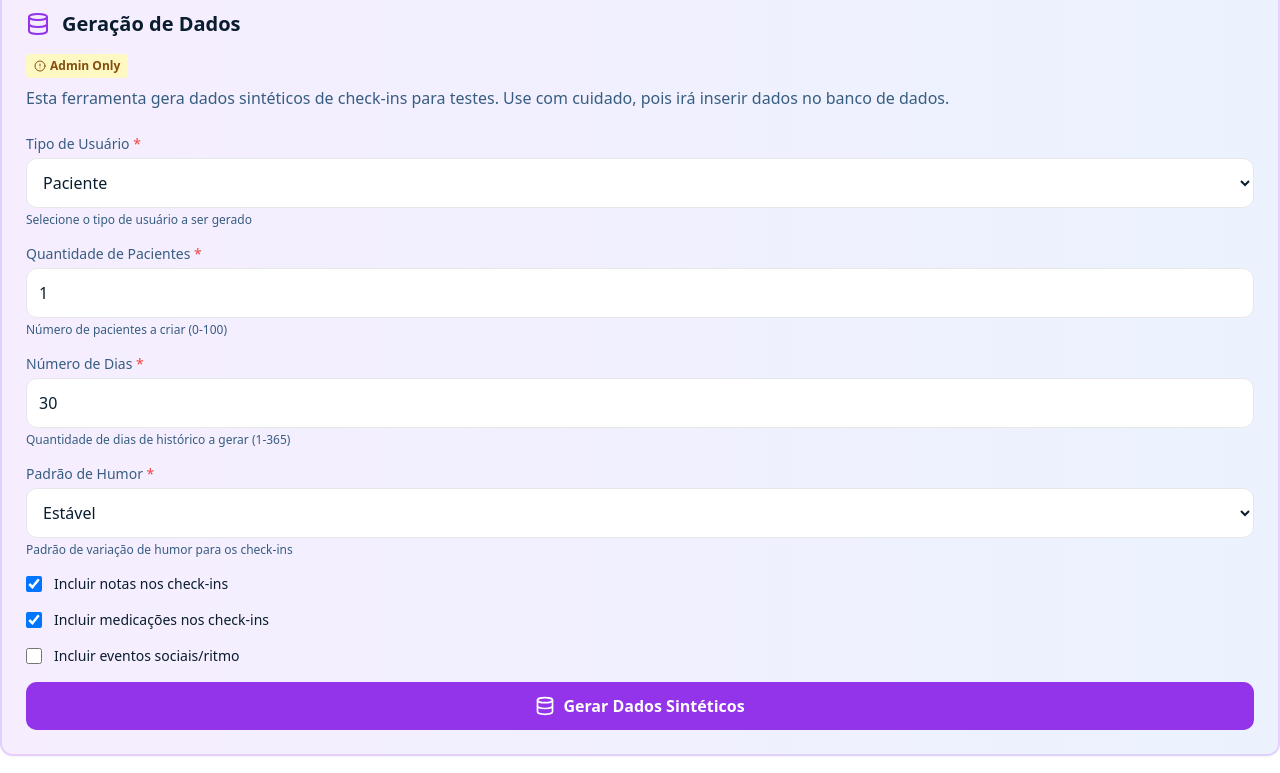
Scenario: DataGenerator › should allow user to retry after 500 error
Expected: the dropdown labelled "Tipo de Usuário *" is shown, top-left (26, 158), bottom-right (1254, 208)
Click the button "Gerar Dados Sintéticos": (640, 706) top-left (26, 682), bottom-right (1254, 730)
(page scrolled)
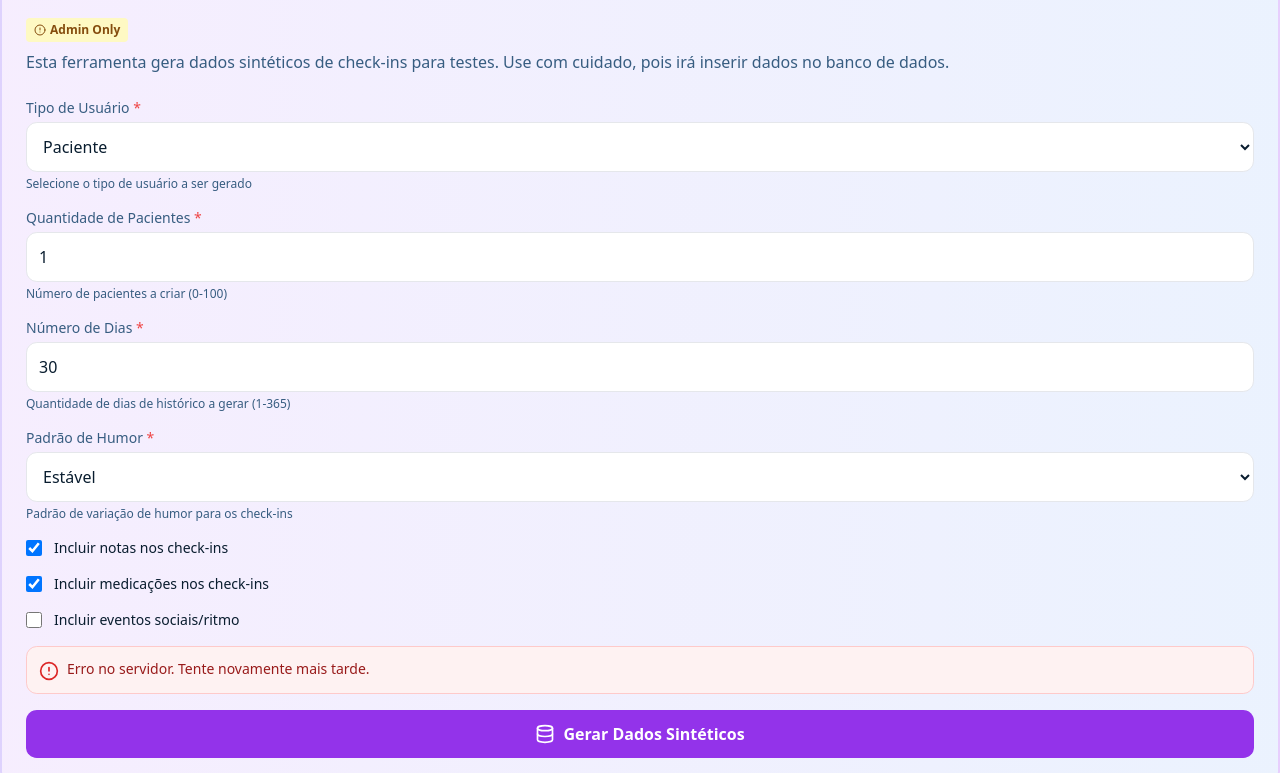
Expected: the text "Erro no servidor. Tente novamente mais tarde." is shown, top-left (67, 659), bottom-right (370, 679)
Retry by clicking submit again
Click the button "Gerar Dados Sintéticos": (640, 734) top-left (26, 710), bottom-right (1254, 758)
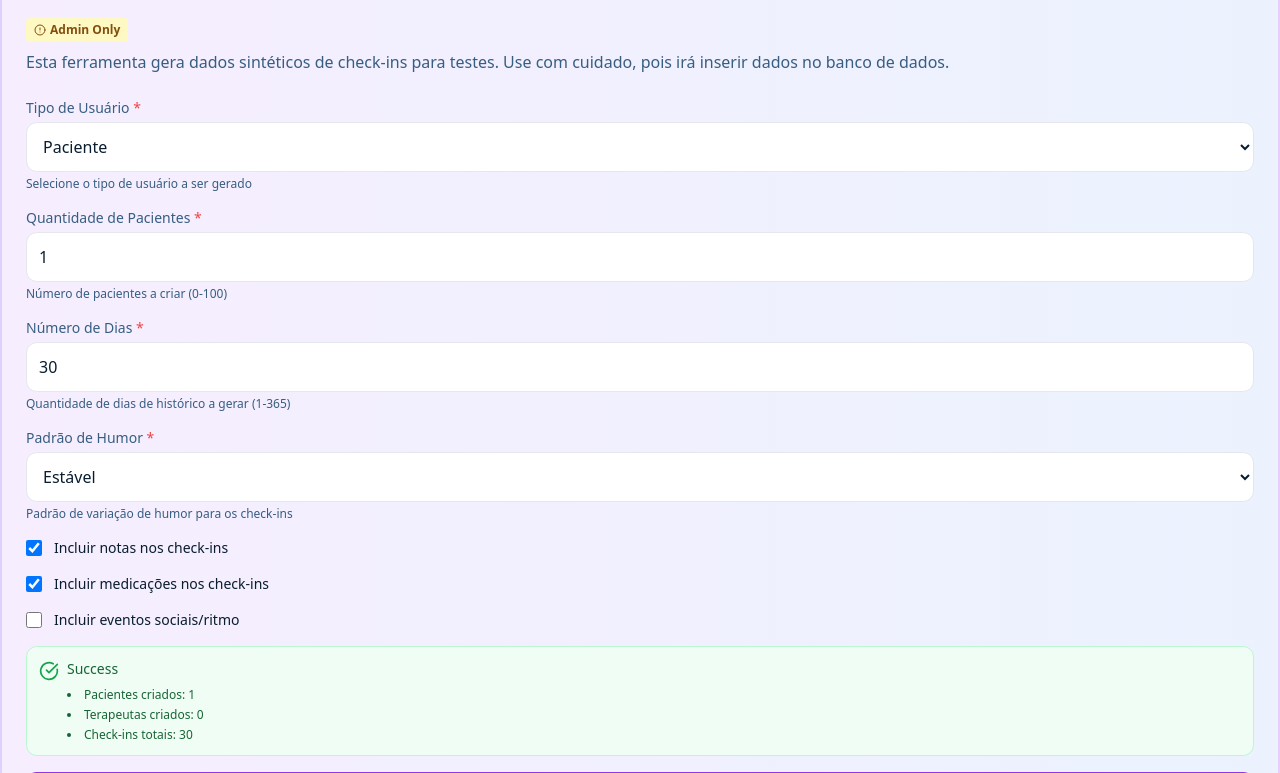
Expected: the text "Success" is shown, top-left (67, 659), bottom-right (118, 678)
Expected: the text "servidor" is gone
